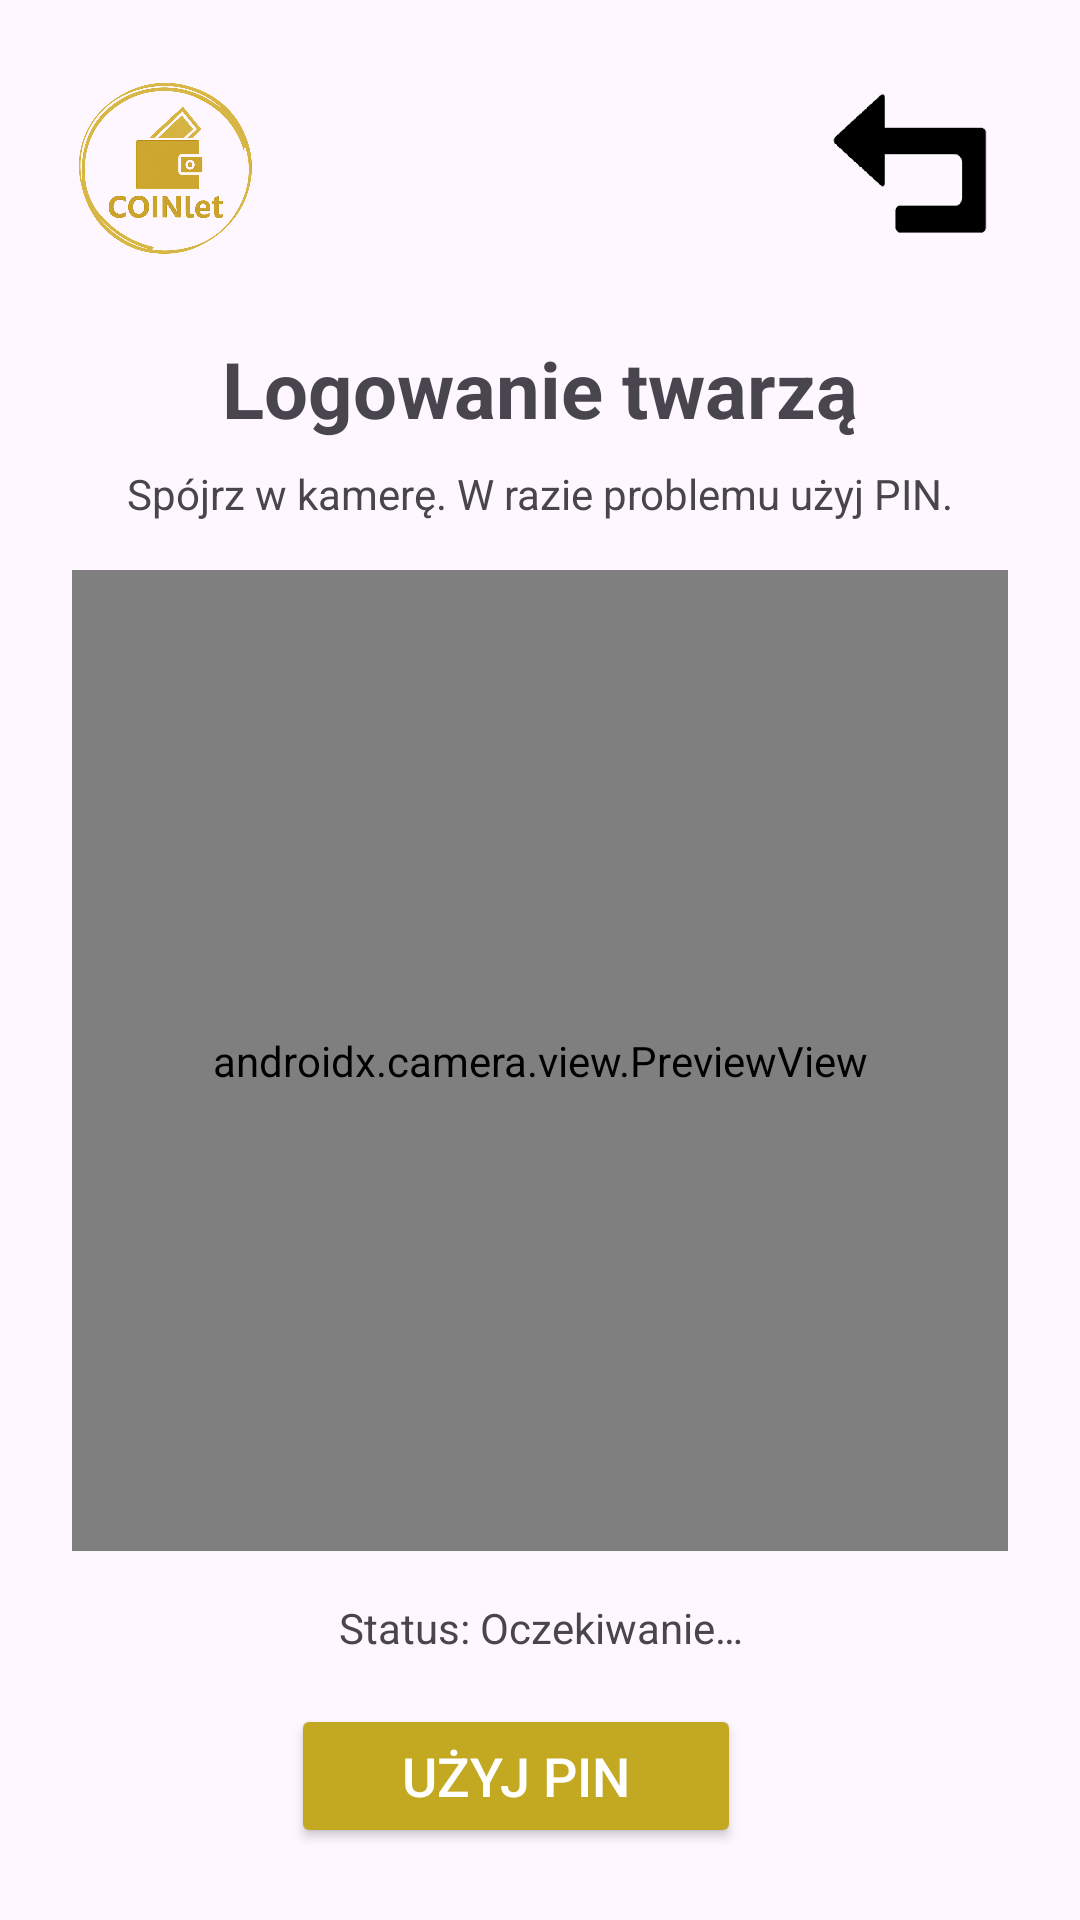

Screen size 1080px x 1920px. Icon name, then its center in pixels as (x=x, y=y):
back: (x=910, y=163)
